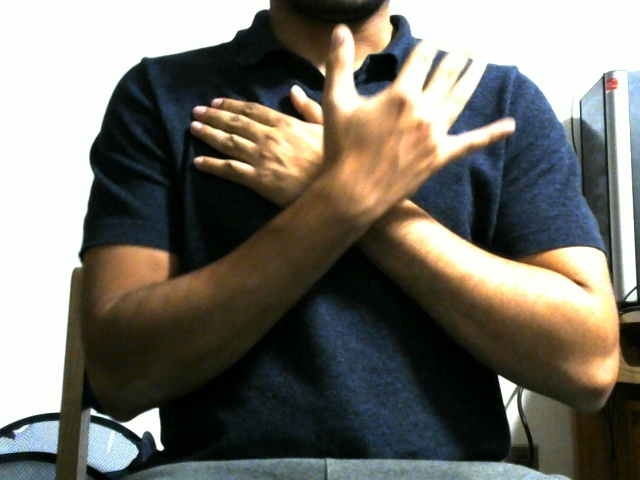blood: (170, 18, 532, 285)
